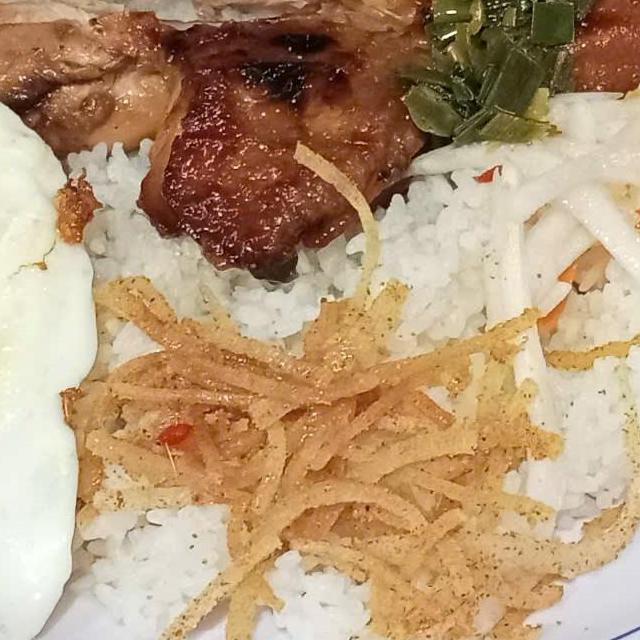bi: (52, 137, 640, 640)
com: (56, 132, 343, 380), (67, 485, 394, 640), (307, 164, 503, 370), (522, 254, 640, 527), (430, 0, 640, 113)
dua chua: (403, 70, 640, 422)
thit ga: (0, 0, 640, 287)
